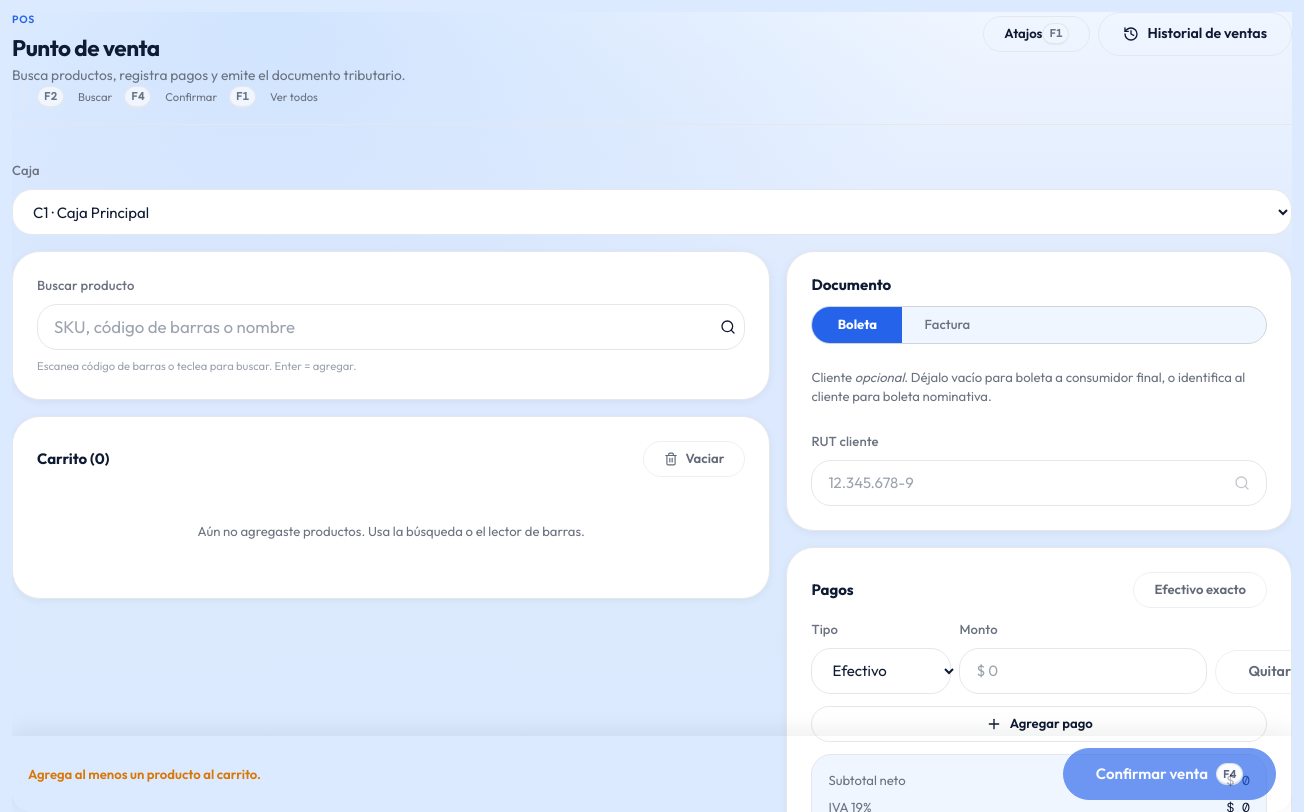
Test: PosPage › si la reserva falla con ERR_STOCK_INSUFICIENTE, muestra el mensaje con disponible
The image size is (1304, 812).
Type "leche" into the field with placeholder "SKU, código de barras o nombre" at (379, 327), box [38,305,720,349]
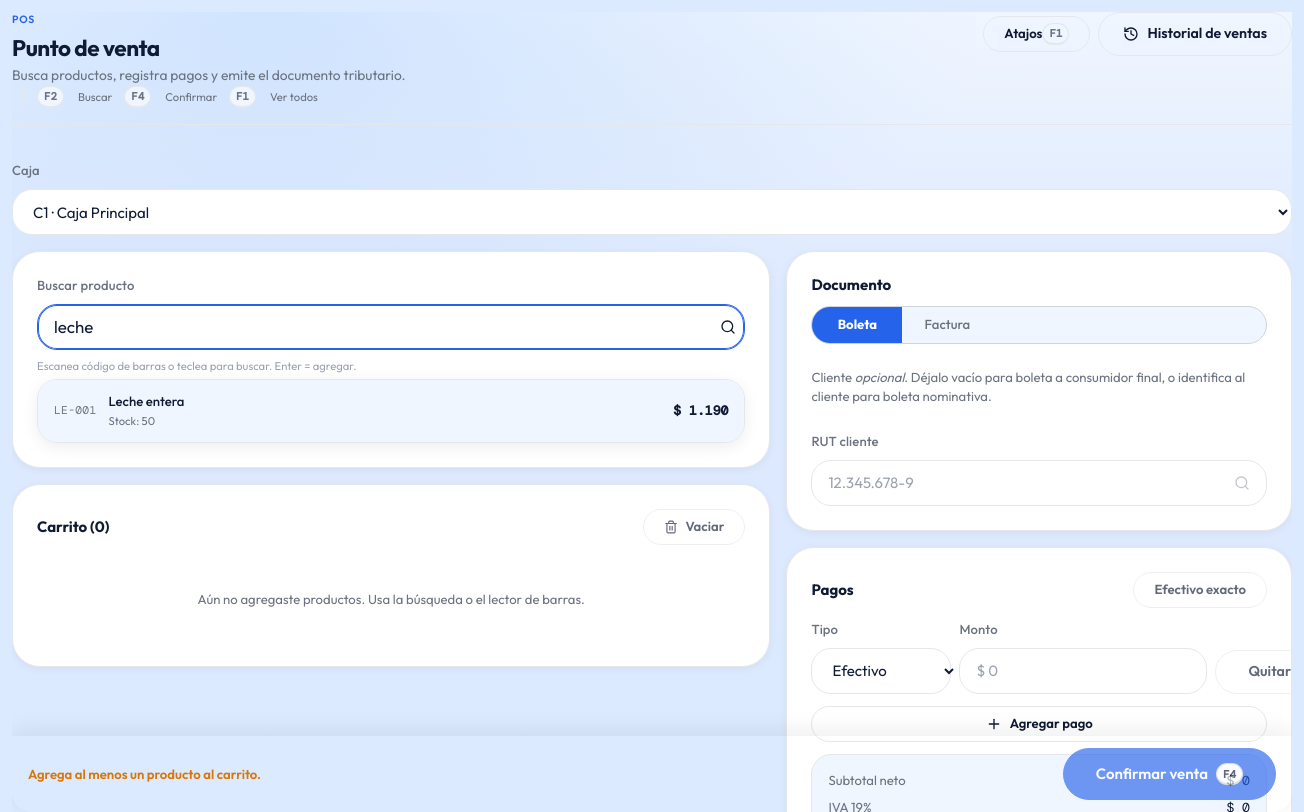
Click the text "Leche entera" at (146, 401), box [108,393,184,409]
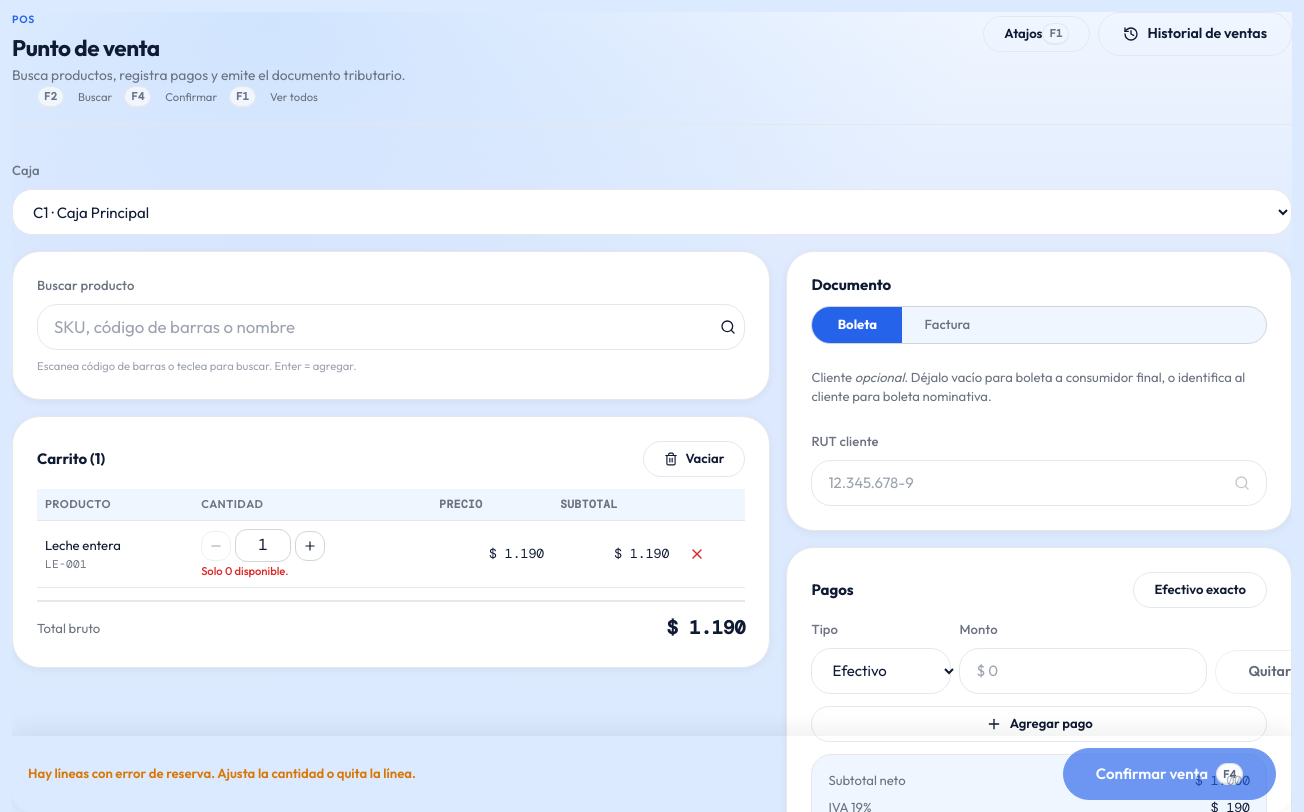
Result: the text "Solo 0 disponible." is shown at [201,564,289,578]
